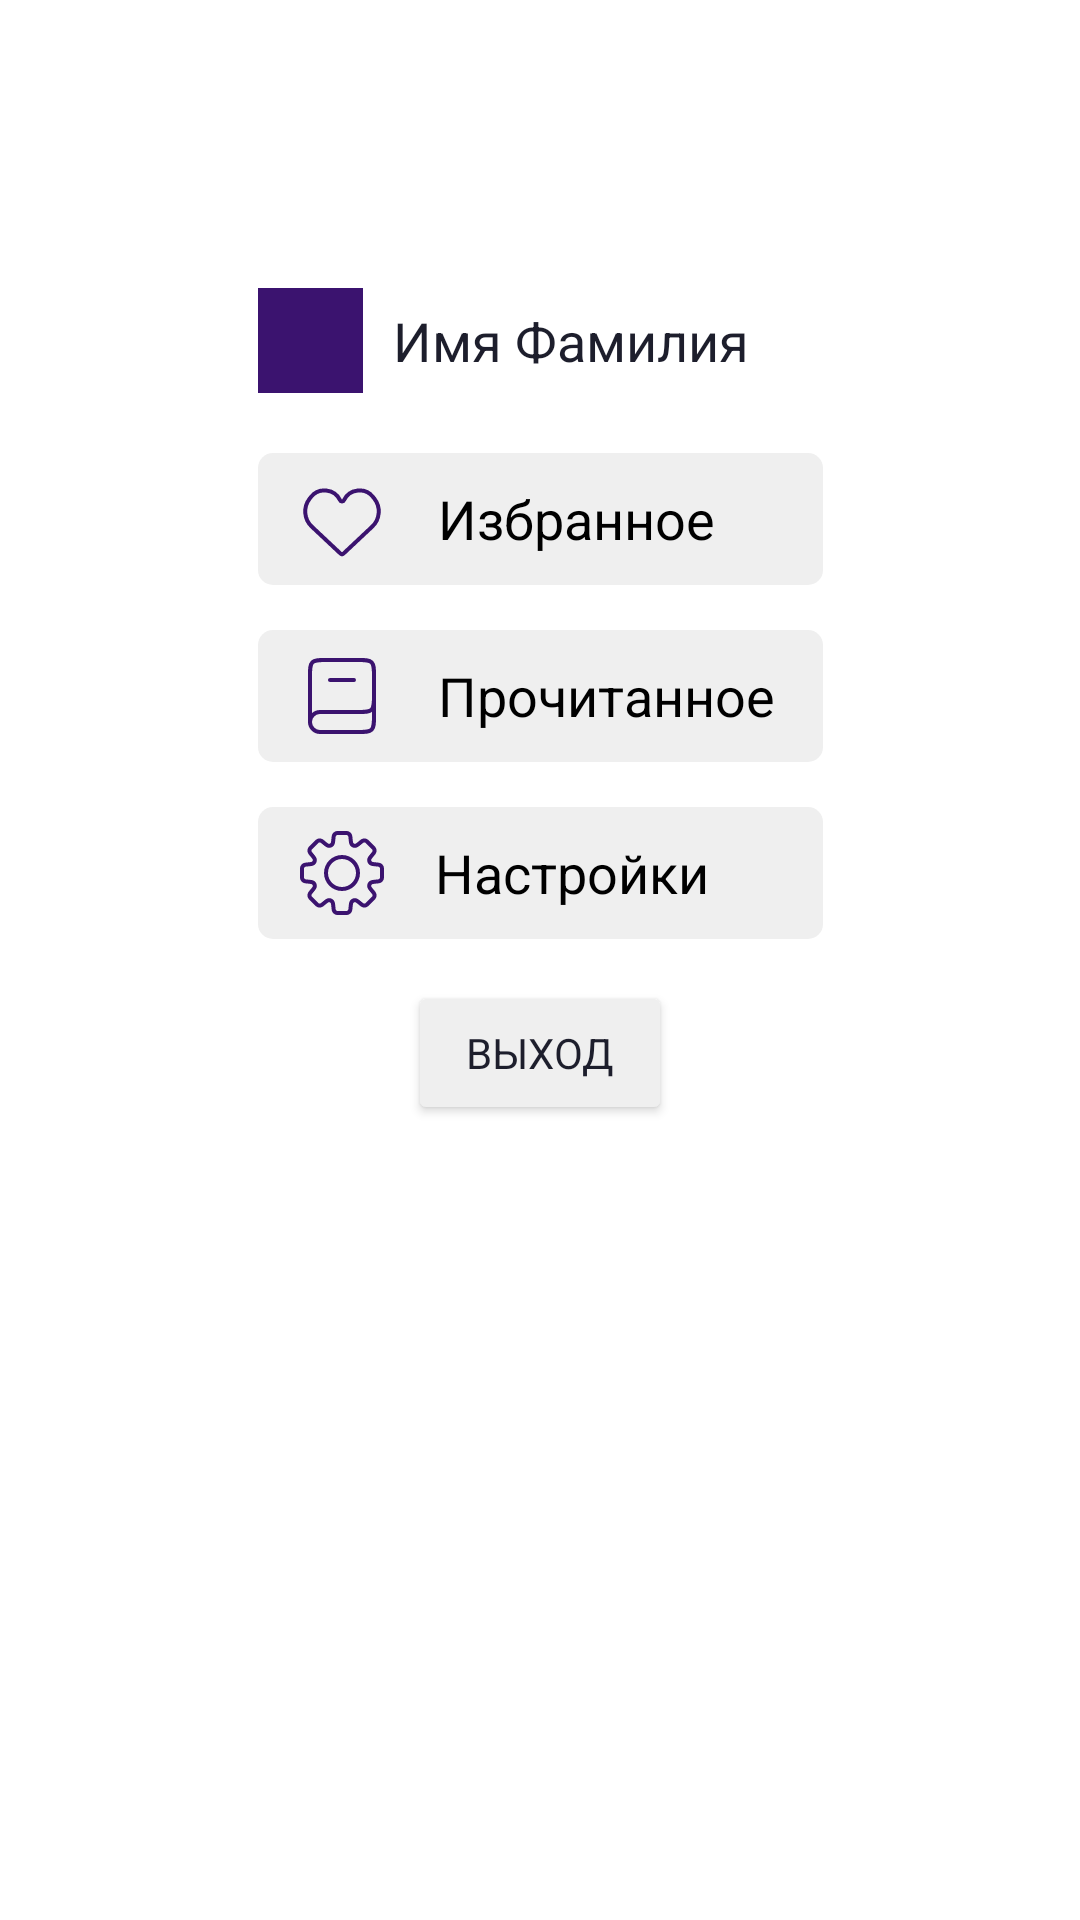

Screen size 1080 × 1920. Icon name, then its box in pixels as bbox=[x1, y1, x2, y2]:
book: bbox=[308, 658, 376, 734]
favorite: bbox=[303, 488, 381, 557]
setting line: bbox=[300, 831, 384, 915]
